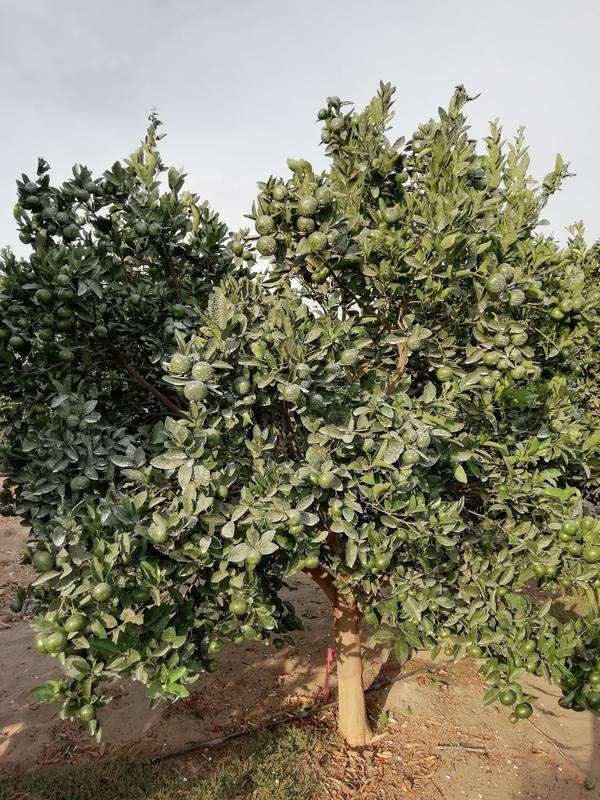mandarina verde: (183, 381, 209, 401), (297, 196, 320, 217), (45, 632, 68, 652), (257, 234, 277, 256), (254, 215, 276, 235), (33, 550, 54, 570), (192, 361, 213, 381), (171, 353, 190, 374), (486, 274, 506, 293), (308, 231, 328, 250), (92, 583, 113, 601), (317, 185, 335, 206), (65, 614, 87, 631), (232, 377, 251, 395), (283, 383, 301, 402), (399, 429, 419, 446), (509, 288, 526, 308), (515, 702, 533, 720), (342, 348, 360, 366), (70, 476, 91, 491), (80, 703, 97, 721), (229, 599, 248, 615), (498, 263, 515, 280), (285, 508, 301, 526), (35, 288, 53, 304), (382, 208, 400, 224), (492, 331, 510, 347), (328, 228, 341, 249), (318, 473, 334, 490), (583, 547, 600, 563), (63, 223, 79, 240), (294, 363, 311, 379), (272, 186, 289, 202), (132, 589, 150, 604), (407, 334, 422, 352), (151, 527, 167, 543), (437, 366, 453, 382), (171, 303, 187, 319), (202, 658, 219, 673), (500, 690, 515, 707), (563, 520, 580, 535), (74, 188, 91, 203), (246, 550, 262, 565), (580, 517, 596, 532), (483, 351, 499, 366), (296, 219, 316, 231), (92, 325, 109, 339), (38, 329, 56, 342), (568, 542, 583, 557), (148, 223, 163, 238), (511, 365, 527, 379), (57, 306, 73, 320), (134, 223, 150, 237), (34, 631, 45, 651), (402, 450, 420, 462), (481, 375, 496, 389), (512, 333, 528, 346), (288, 525, 305, 537), (10, 598, 23, 613), (469, 645, 484, 658), (216, 484, 229, 499), (417, 433, 430, 448), (8, 336, 23, 349), (560, 298, 573, 313), (231, 241, 244, 256), (329, 118, 344, 131), (58, 350, 74, 362), (376, 557, 390, 570), (26, 195, 40, 208), (573, 298, 587, 311), (23, 182, 38, 194), (8, 305, 23, 317), (412, 139, 425, 152), (306, 556, 320, 568), (522, 641, 537, 652), (535, 564, 546, 579), (525, 661, 537, 674), (66, 415, 79, 427), (551, 307, 563, 320), (273, 638, 285, 650), (396, 171, 408, 183), (588, 672, 599, 685), (307, 473, 318, 486), (241, 251, 254, 262), (321, 131, 332, 144), (495, 587, 508, 597), (317, 108, 327, 120), (427, 602, 438, 612), (363, 604, 373, 614), (546, 566, 557, 575), (561, 579, 571, 587), (445, 648, 453, 657)
